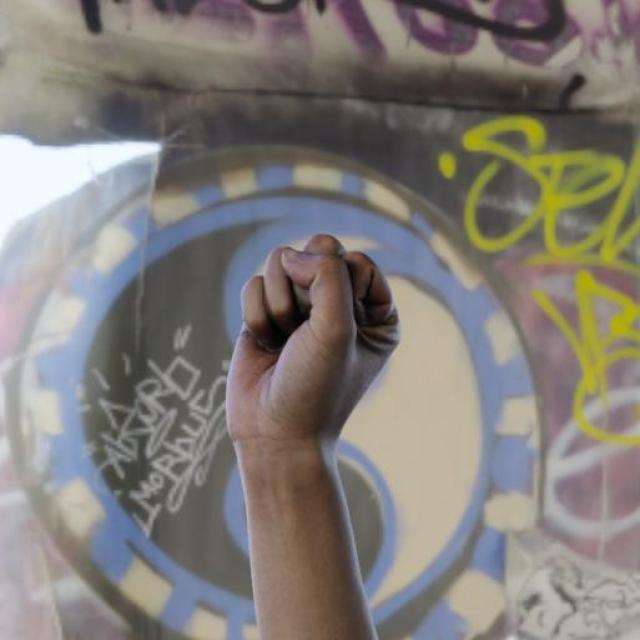S: (220, 226, 408, 462)
